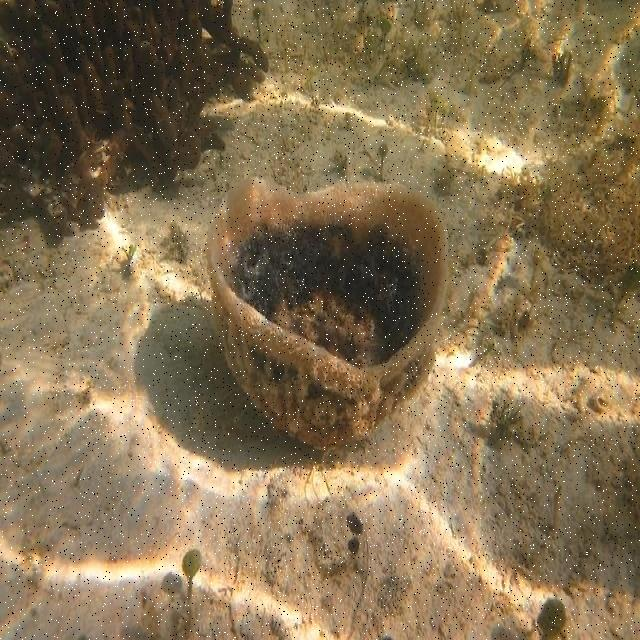aquatic plants: (0, 1, 266, 221), (495, 76, 639, 311), (180, 548, 202, 629)
wrecks-ruins: (205, 178, 447, 446)
